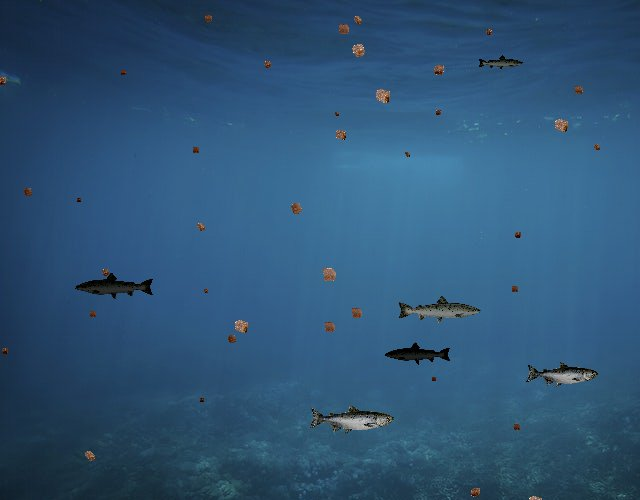Fish: (396, 294, 482, 325), (308, 404, 394, 435), (74, 272, 155, 301), (525, 361, 598, 388), (384, 341, 452, 366), (477, 54, 524, 71)
Pellet: (78, 445, 100, 467), (569, 81, 588, 100), (348, 10, 367, 29), (510, 228, 524, 242), (432, 106, 445, 119), (117, 67, 129, 79), (200, 286, 210, 296)
